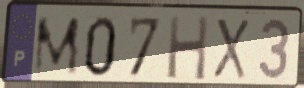0: (83, 14, 120, 79)
3: (257, 16, 291, 82)
7: (127, 14, 165, 80)
H: (165, 14, 211, 84)
M: (31, 14, 82, 77)
X: (211, 16, 250, 81)
